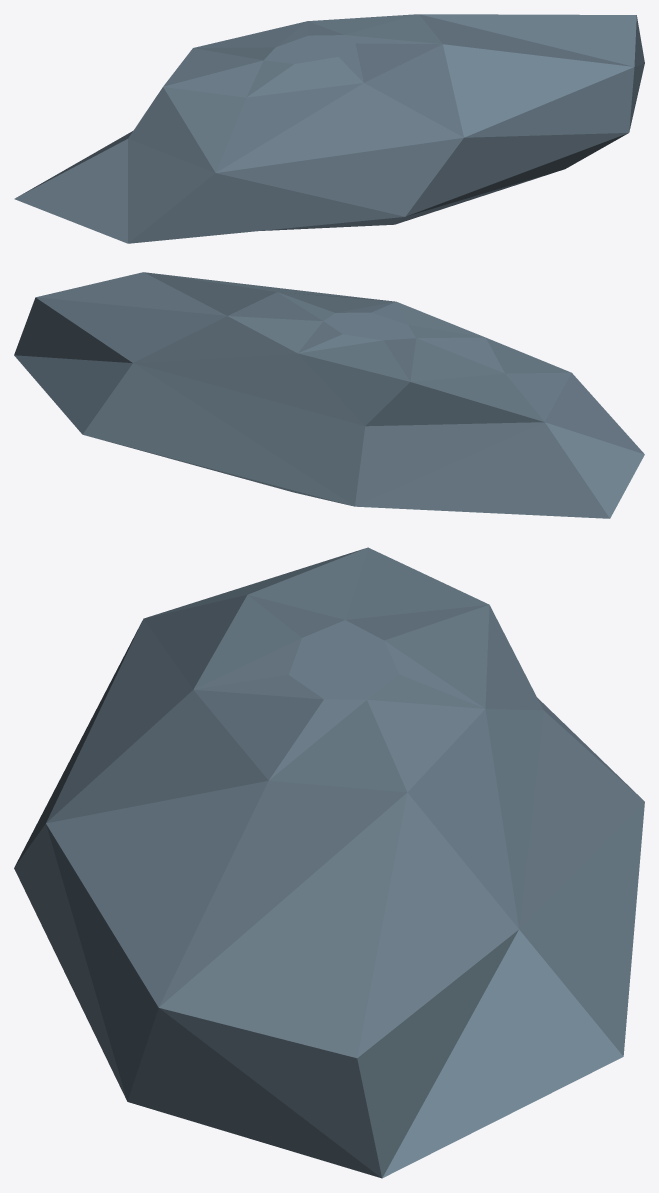
The model's file is N05_Rock_Slab.fbx.
3 renders of one model, top to bottom at view 1: azimuth 30°, elevation 25°; view 2: azimuth 150°, elevation 25°; view 3: azimuth 270°, elevation 25°, orthographic. The views are drawn at different scales.
Visible parts, largest first — view 1: N05_Rock_Slab; view 2: N05_Rock_Slab; view 3: N05_Rock_Slab.
Boxes of the visible parts, x1,y1,x2,y2 form: N05_Rock_Slab: (14, 14, 644, 243); N05_Rock_Slab: (14, 272, 644, 518); N05_Rock_Slab: (14, 547, 644, 1178).
Bounding box in the file's own units: 2.6 × 0.52 × 1.23.
1 material, 1 textured.
